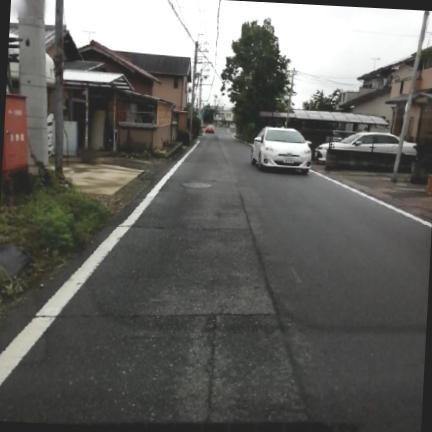Road: (0, 130, 431, 431)
